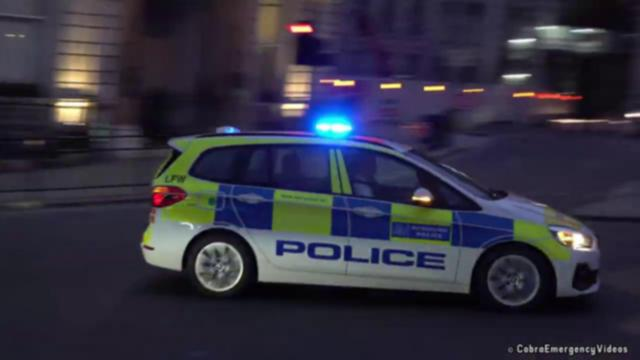police: (138, 117, 599, 306)
